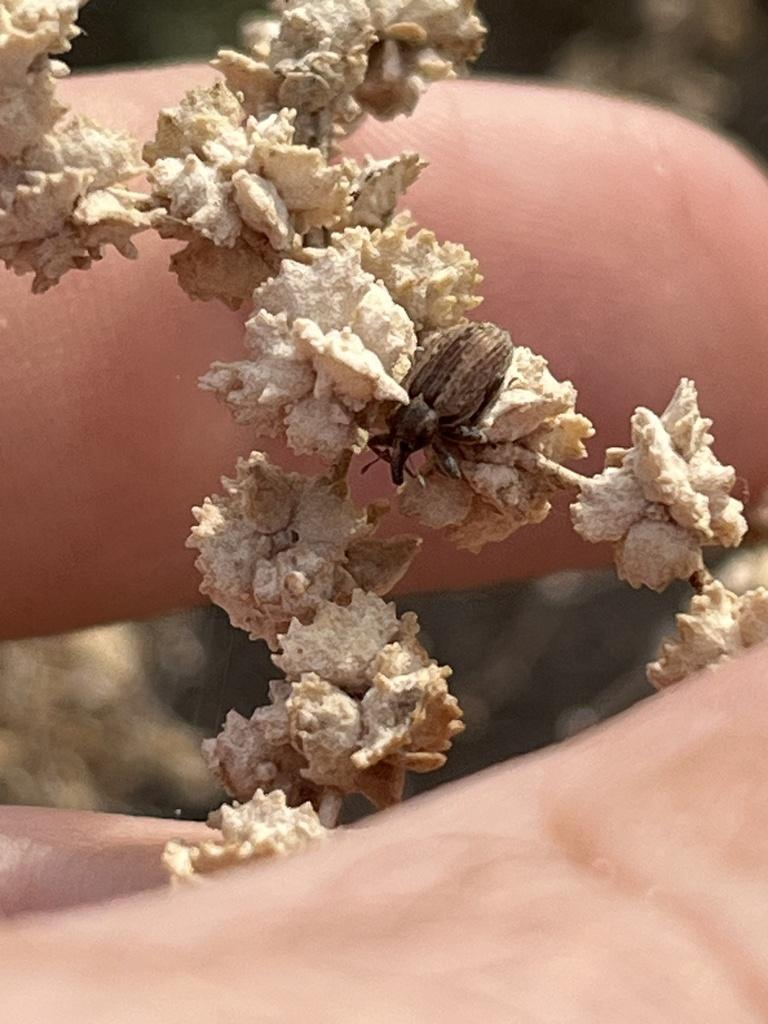weevils: (324, 279, 543, 531)
